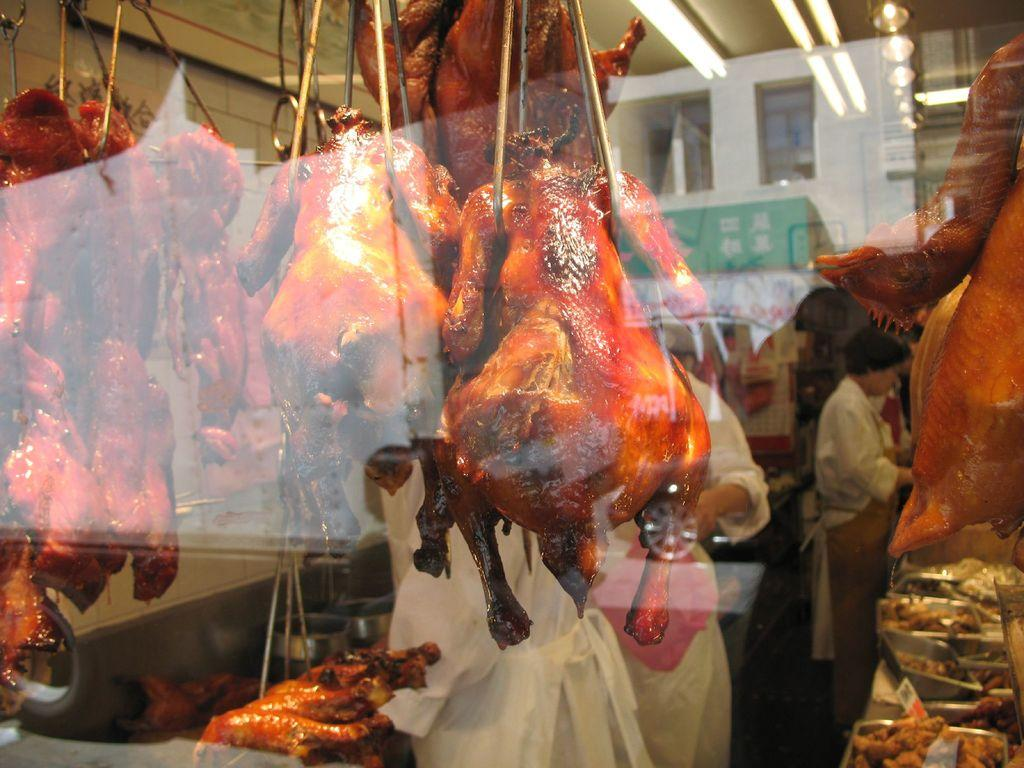Sem Máscara: (862, 353, 901, 398)
